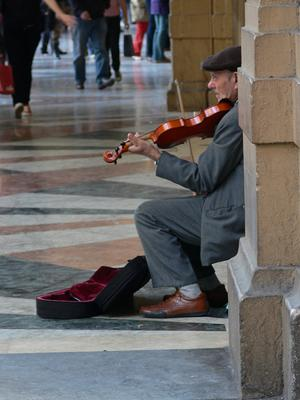person: (103, 44, 242, 316)
